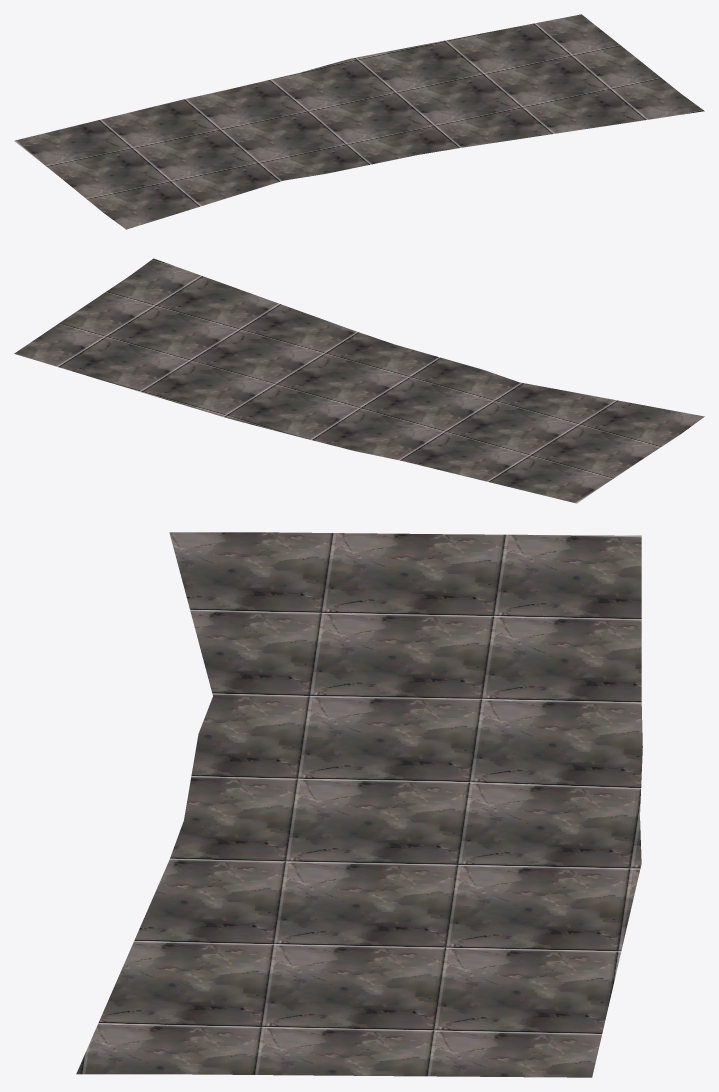
Rendered from CH09_SMAUG_PLAYSURFACE_LAIR131.fbx.
3 views of the same model, one above another, from view 1: azimuth 30°, elevation 25°; view 2: azimuth 150°, elevation 25°; view 3: azimuth 270°, elevation 25° (orthographic). The views are drawn at different scales.
Parts seen in each view (by area): view 1: CH09_SMAUG_PLAYSURFACE_LAIR131; view 2: CH09_SMAUG_PLAYSURFACE_LAIR131; view 3: CH09_SMAUG_PLAYSURFACE_LAIR131.
Part boxes in pixels (<box>): CH09_SMAUG_PLAYSURFACE_LAIR131: <box>14,14,704,229</box>; CH09_SMAUG_PLAYSURFACE_LAIR131: <box>14,258,704,503</box>; CH09_SMAUG_PLAYSURFACE_LAIR131: <box>76,532,642,1077</box>.
Size of the model in its own units: 131804 by 302 by 57653.
Materials: 1 (1 with a texture image).
